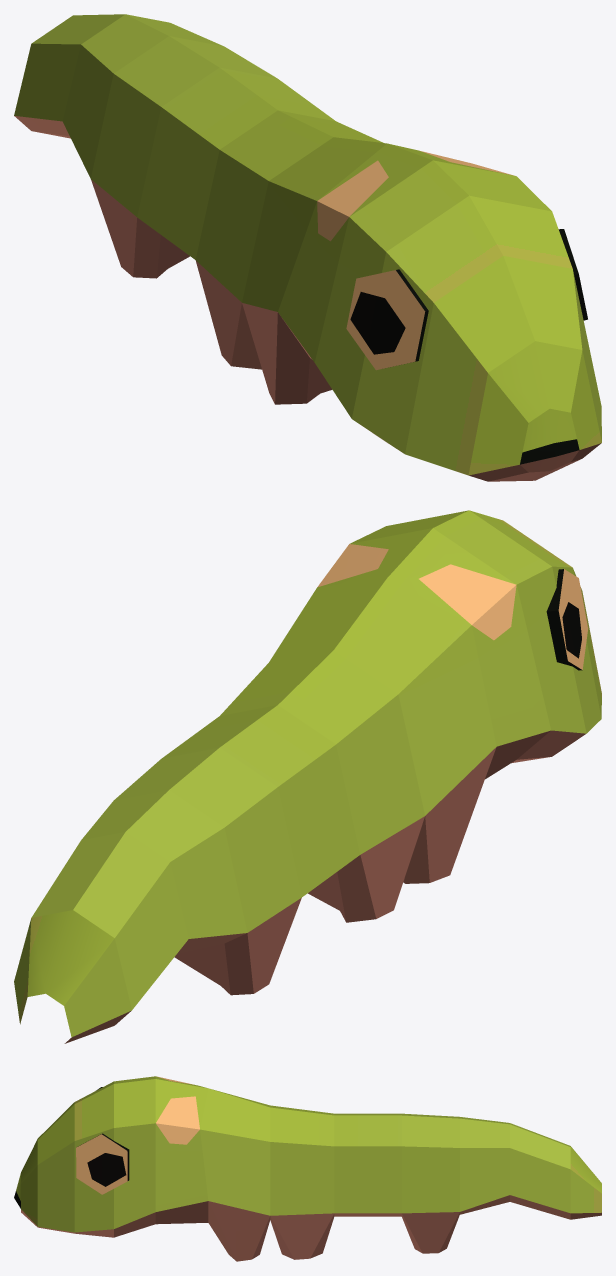
File: 11rgZ0QxZ-F.glb
3 renders of one model, top to bottom at view 1: azimuth 30°, elevation 25°; view 2: azimuth 150°, elevation 25°; view 3: azimuth 270°, elevation 25°, orthographic. The views are drawn at different scales.
Parts seen in each view (by area): view 1: Geo_Caterpillar; view 2: Geo_Caterpillar; view 3: Geo_Caterpillar.
Boxes of the visible parts, left/top/right/bottom form: Geo_Caterpillar: left=14, top=14, right=601, bottom=481; Geo_Caterpillar: left=14, top=510, right=601, bottom=1043; Geo_Caterpillar: left=14, top=1076, right=601, bottom=1261.
Bounding box in the file's own units: 0.9006 × 1 × 3.36.
1 material, 1 textured.
